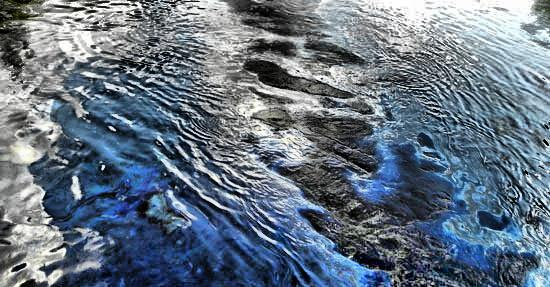truecolor: (281, 145, 541, 286), (254, 108, 383, 172), (245, 61, 354, 98)
